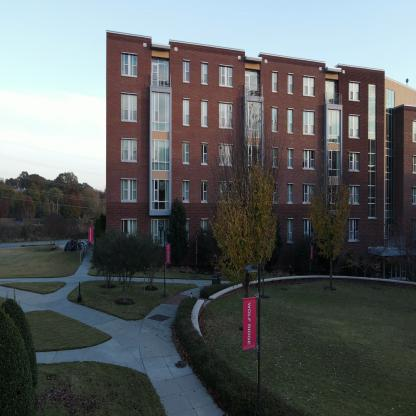Wolf Ridge: (99, 14, 416, 300)
